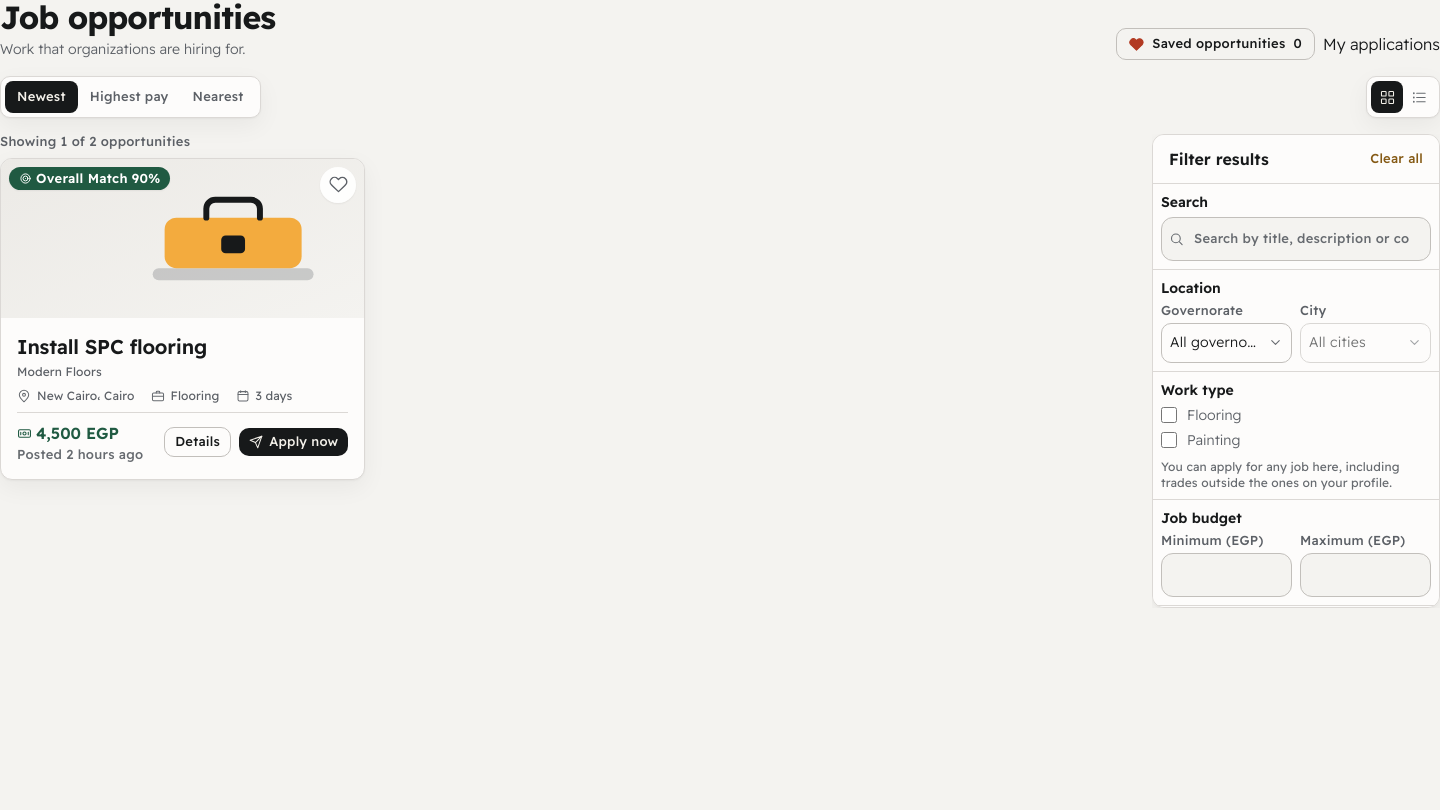
Test: production Jobs board — one approved presentation, only real capabilities › Overall Match — the canonical database breakdown, drawn and never recomputed › 90% is named 'Excellent match' in its breakdown
Step 1. Click the button with test id "match-badge" → click(90, 179), box [9,167,170,190]
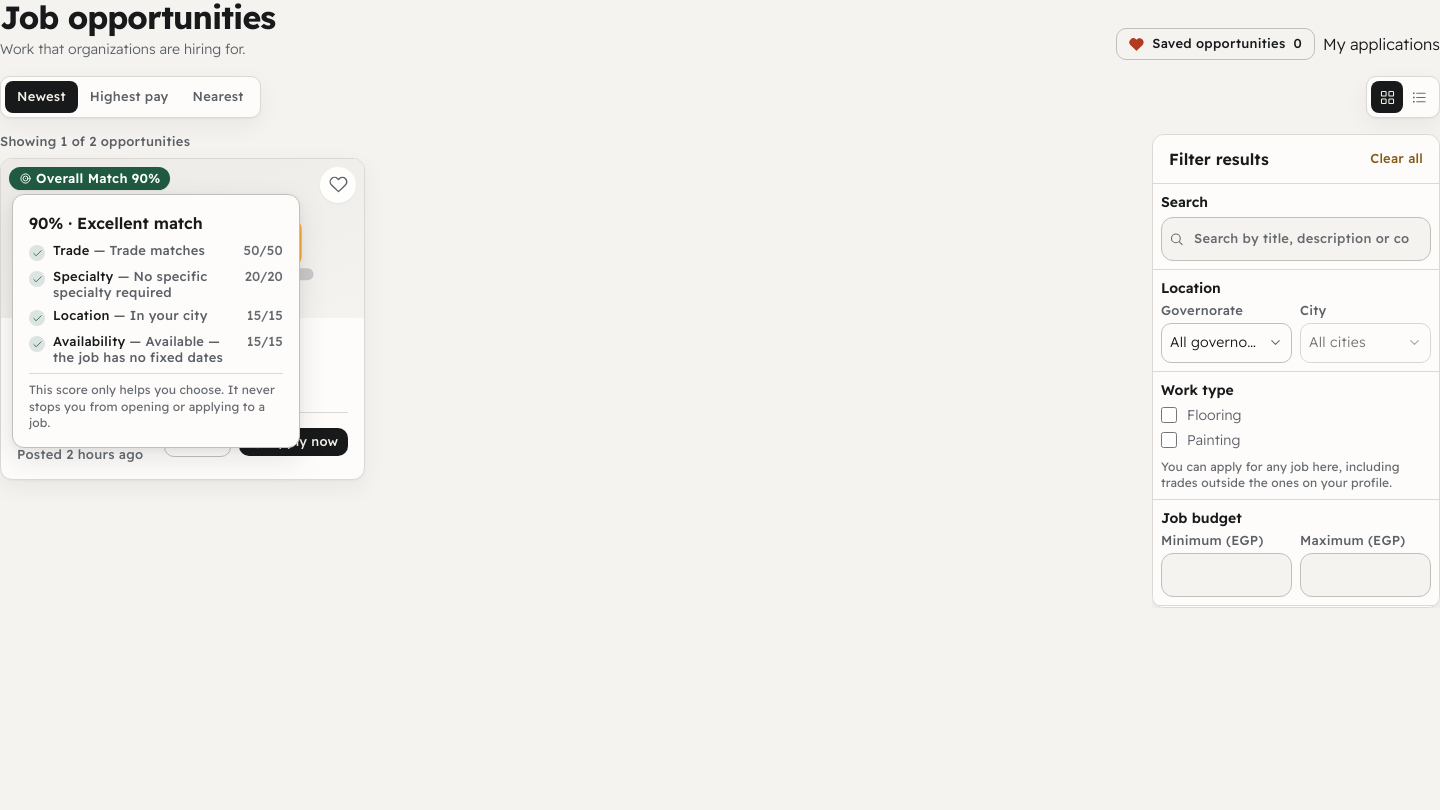
Result: the text "90% · Excellent match" is shown at [29,213,203,233]
